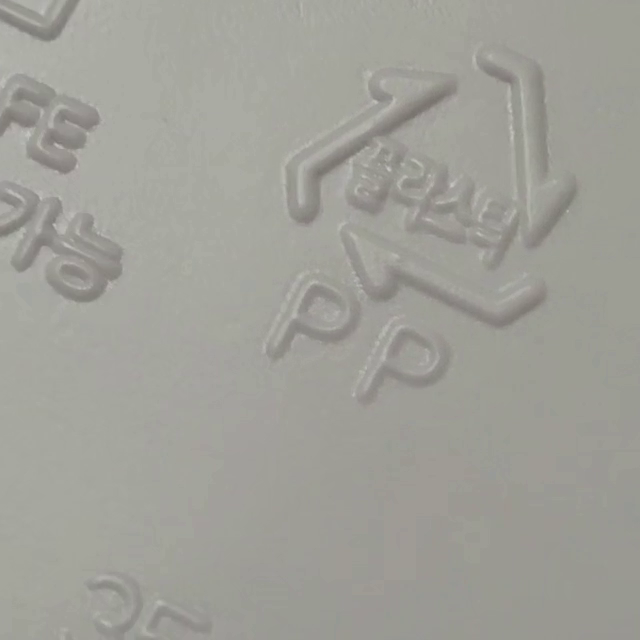Plastic: (284, 48, 574, 325)
